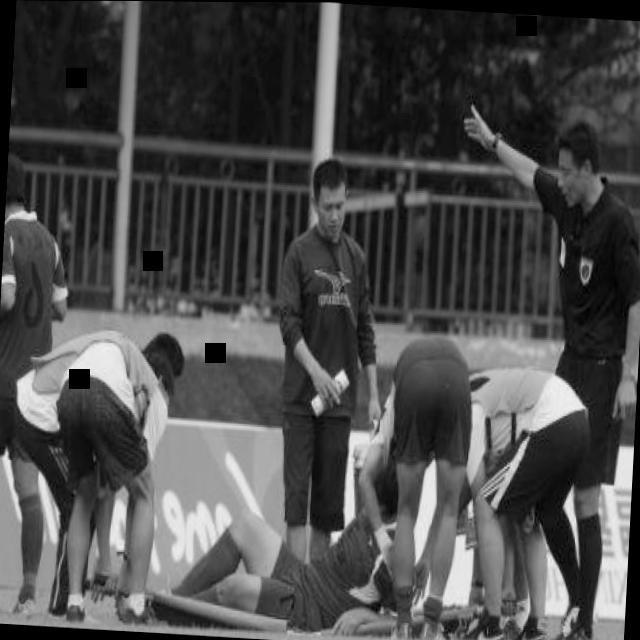Fall-Detected: (145, 447, 433, 640)
